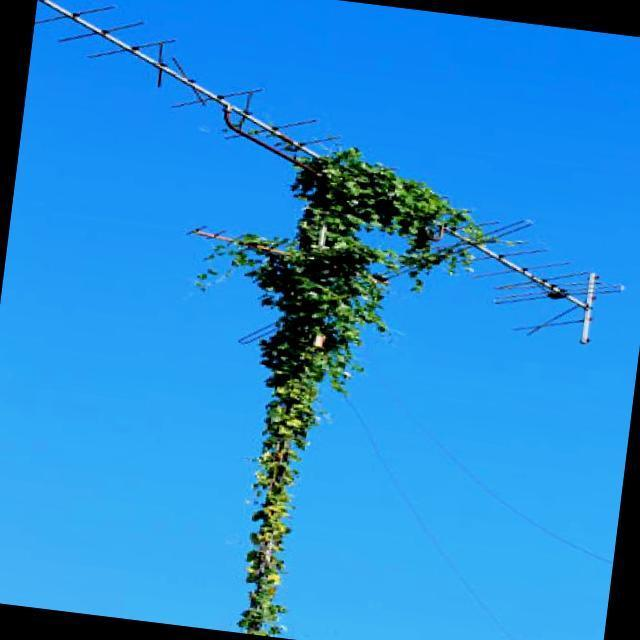critical vegetation: (167, 137, 480, 640)
